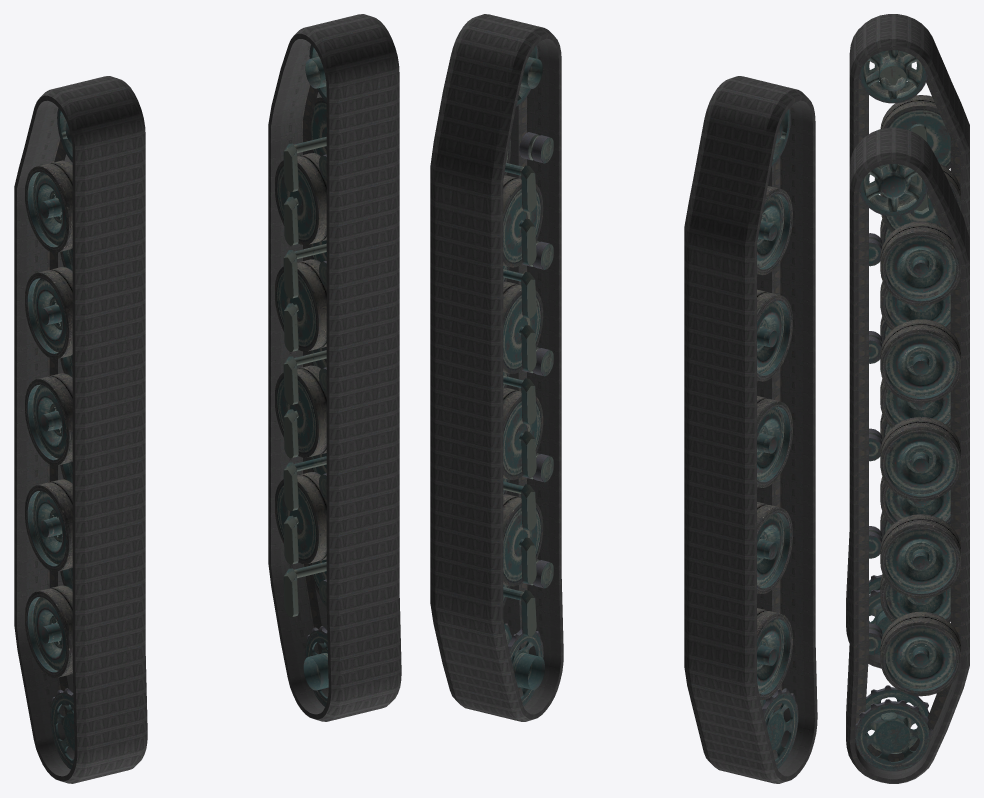
Rendered from Chassis.glb.
3 views of the same model, side by side, from view 1: azimuth 30°, elevation 25°; view 2: azimuth 150°, elevation 25°; view 3: azimuth 270°, elevation 25° (orthographic). The views are drawn at different scales.
Parts seen in each view (by area): view 1: set_0_group_0, set_1_group_0, set_5_group_0, set_3_group_0, set_4_group_0; view 2: set_0_group_0, set_1_group_0, set_5_group_0, set_3_group_0, set_4_group_0; view 3: set_5_group_0, set_1_group_0, set_0_group_0, set_3_group_0, set_2_group_0.
Part boxes in pixels (x1=…): set_0_group_0: x1=14, y1=76, x2=147, y2=783; set_1_group_0: x1=268, y1=14, x2=401, y2=721; set_5_group_0: x1=275, y1=44, x2=328, y2=706; set_3_group_0: x1=25, y1=108, x2=74, y2=769; set_4_group_0: x1=283, y1=515, x2=326, y2=617; set_0_group_0: x1=684, y1=76, x2=817, y2=783; set_1_group_0: x1=430, y1=14, x2=563, y2=721; set_5_group_0: x1=503, y1=45, x2=553, y2=706; set_3_group_0: x1=757, y1=108, x2=798, y2=768; set_4_group_0: x1=503, y1=537, x2=536, y2=636; set_5_group_0: x1=855, y1=164, x2=960, y2=771; set_1_group_0: x1=846, y1=127, x2=969, y2=783; set_0_group_0: x1=846, y1=14, x2=969, y2=668; set_3_group_0: x1=859, y1=50, x2=960, y2=655; set_2_group_0: x1=910, y1=126, x2=929, y2=214.
Size of the model in its own units: 3.3 by 6.69 by 1.19.
Materials: 6 (6 with a texture image).
